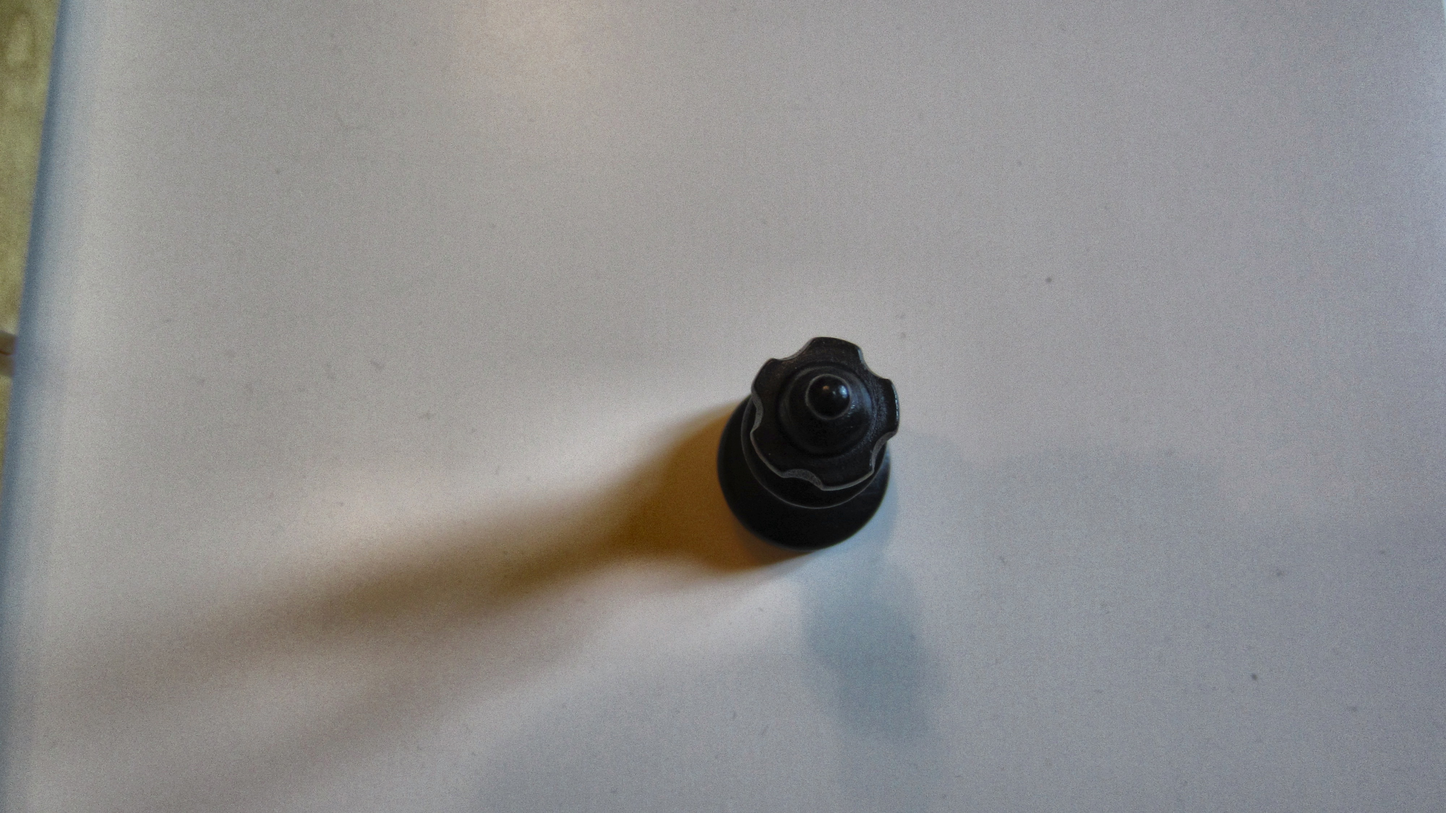black-queen: (714, 331, 905, 556)
